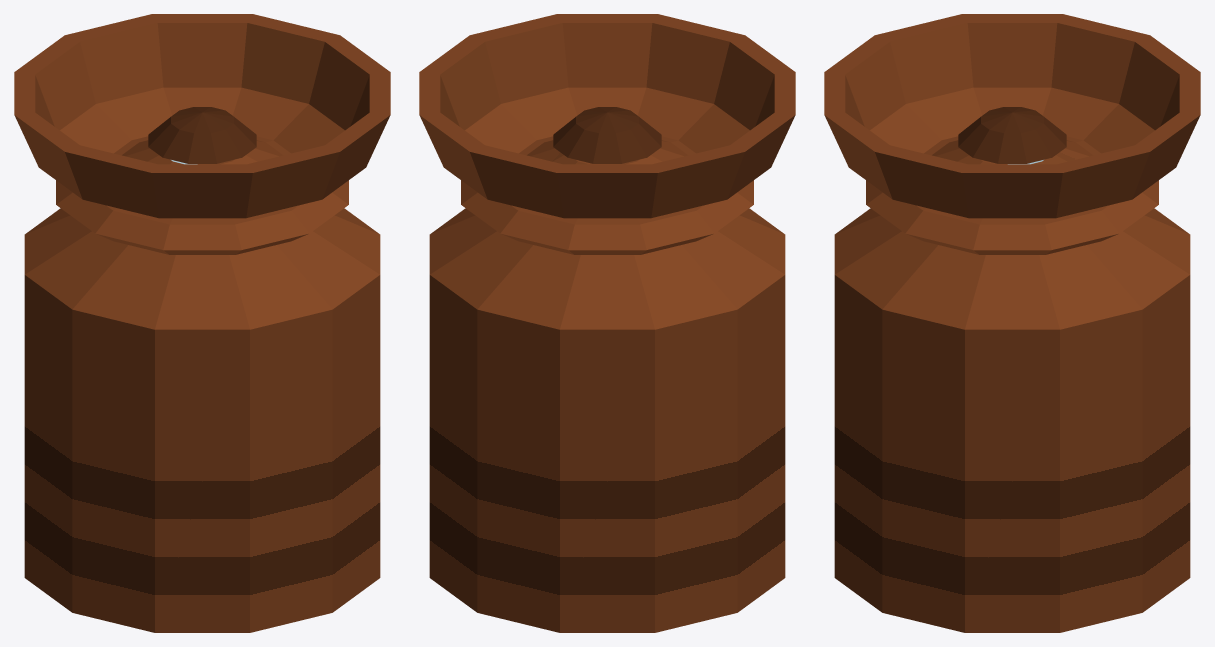
File: theki.obj
The picture shows the model from 3 angles, left to right: view 1: azimuth 30°, elevation 25°; view 2: azimuth 150°, elevation 25°; view 3: azimuth 270°, elevation 25°; orthographic projection.
Parts seen in each view (by area): view 1: cylinder, torus, sphere; view 2: cylinder, torus, sphere; view 3: cylinder, torus, sphere.
Part boxes in pixels (x1=…): cylinder: x1=24, y1=208, x2=380, y2=632; torus: x1=14, y1=14, x2=390, y2=254; sphere: x1=148, y1=107, x2=256, y2=163; cylinder: x1=429, y1=208, x2=785, y2=632; torus: x1=419, y1=14, x2=795, y2=254; sphere: x1=553, y1=107, x2=661, y2=163; cylinder: x1=834, y1=208, x2=1190, y2=632; torus: x1=824, y1=14, x2=1200, y2=254; sphere: x1=958, y1=107, x2=1066, y2=163.
Size of the model in its own units: 0.5625 by 0.7656 by 0.5625.
1 material, 1 textured.
